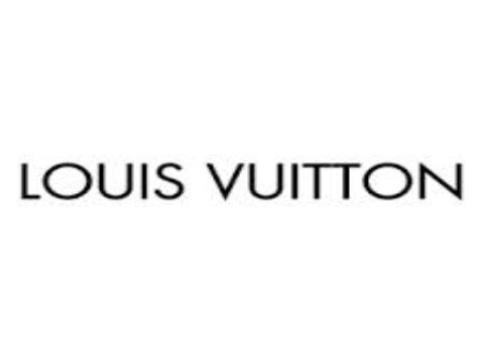LOUIS-VUITTON: (3, 142, 472, 218)
